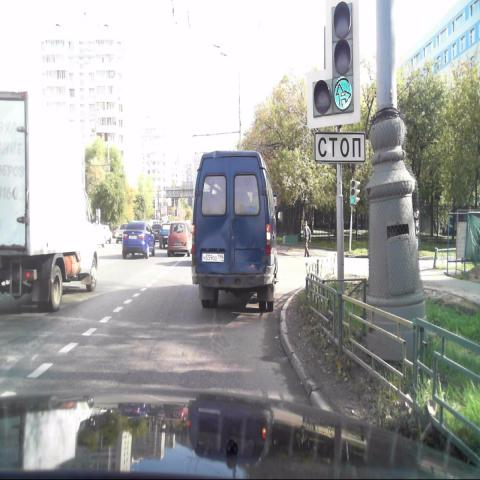6_16: (315, 133, 365, 162)
